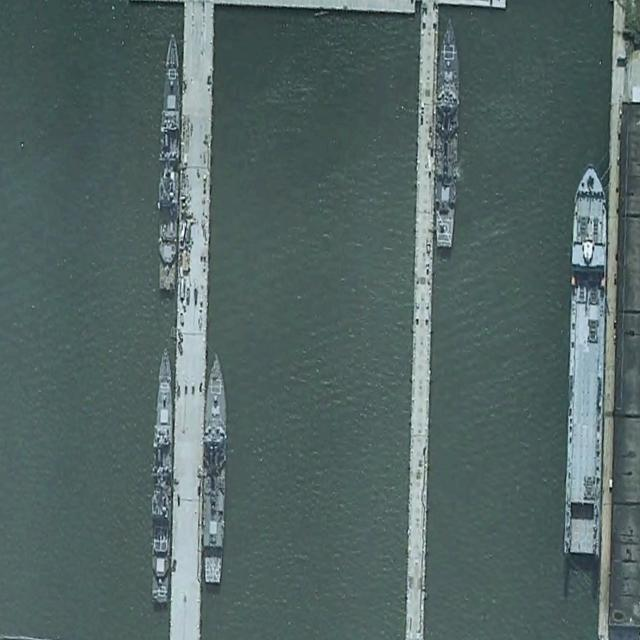Cargo: (564, 160, 611, 557)
Cruiser: (148, 346, 177, 606), (155, 29, 183, 290)
Destroyer: (201, 350, 229, 585), (433, 15, 461, 249)
